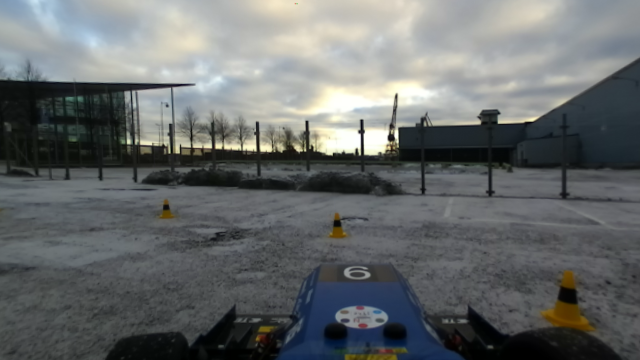yellow: (540, 270, 595, 329), (328, 213, 348, 239), (158, 198, 176, 221)
